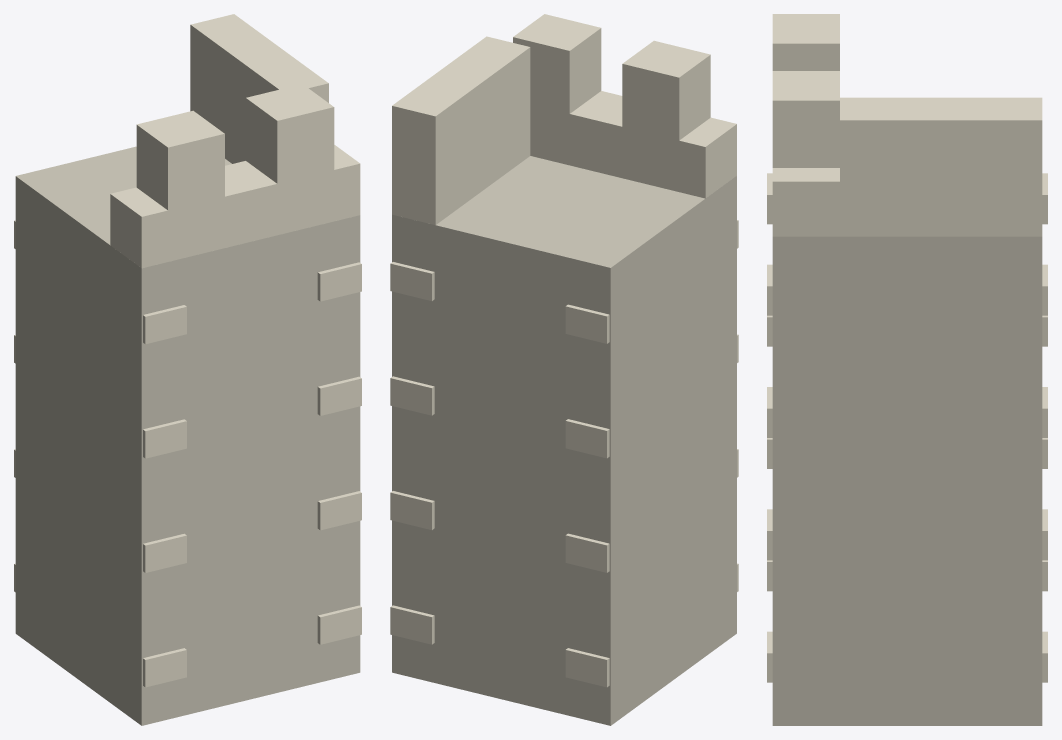
Rendered from curtain-end.glb.
3 views of the same model, side by side, from view 1: azimuth 30°, elevation 25°; view 2: azimuth 150°, elevation 25°; view 3: azimuth 270°, elevation 25° (orthographic). The views are drawn at different scales.
Visible parts, largest first — view 1: curtain-end; view 2: curtain-end; view 3: curtain-end.
Boxes of the visible parts, box(x1,y1,x2,y2) form: curtain-end: box(14, 14, 361, 725); curtain-end: box(390, 14, 738, 725); curtain-end: box(767, 14, 1047, 725).
Bounding box in the file's own units: 2 × 5 × 2.08.
